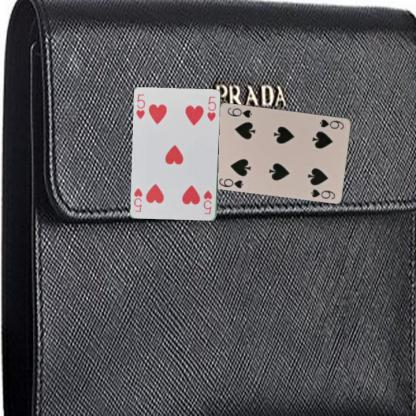5h: (134, 92, 146, 121), (201, 188, 213, 215)
6s: (317, 116, 346, 130), (217, 176, 245, 189)
